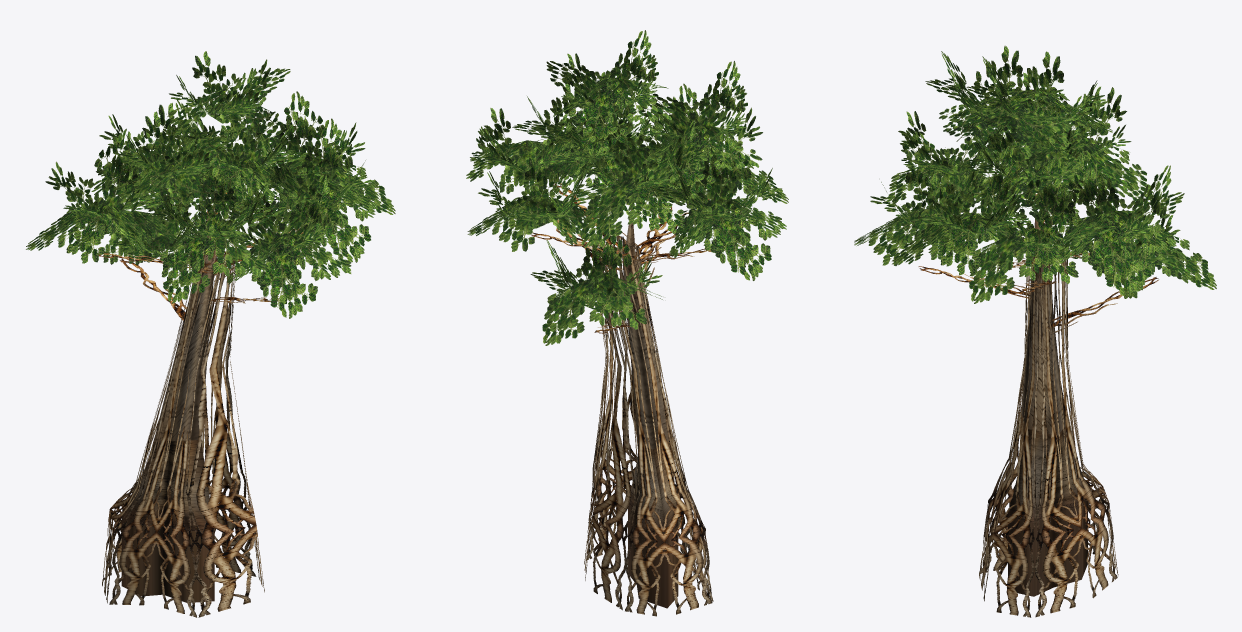
Rendered from strangler_1.glb.
3 views of the same model, side by side, from view 1: azimuth 30°, elevation 25°; view 2: azimuth 150°, elevation 25°; view 3: azimuth 270°, elevation 25° (orthographic). The views are drawn at different scales.
Visible parts, largest first — view 1: strangler_1; view 2: strangler_1; view 3: strangler_1.
Part boxes in pixels (x1=…): strangler_1: x1=26, y1=51, x2=395, y2=617; strangler_1: x1=466, y1=30, x2=788, y2=616; strangler_1: x1=854, y1=45, x2=1216, y2=617.
Bounding box in the file's own units: 12.87 × 19.95 × 12.4.
2 materials, 2 textured.
